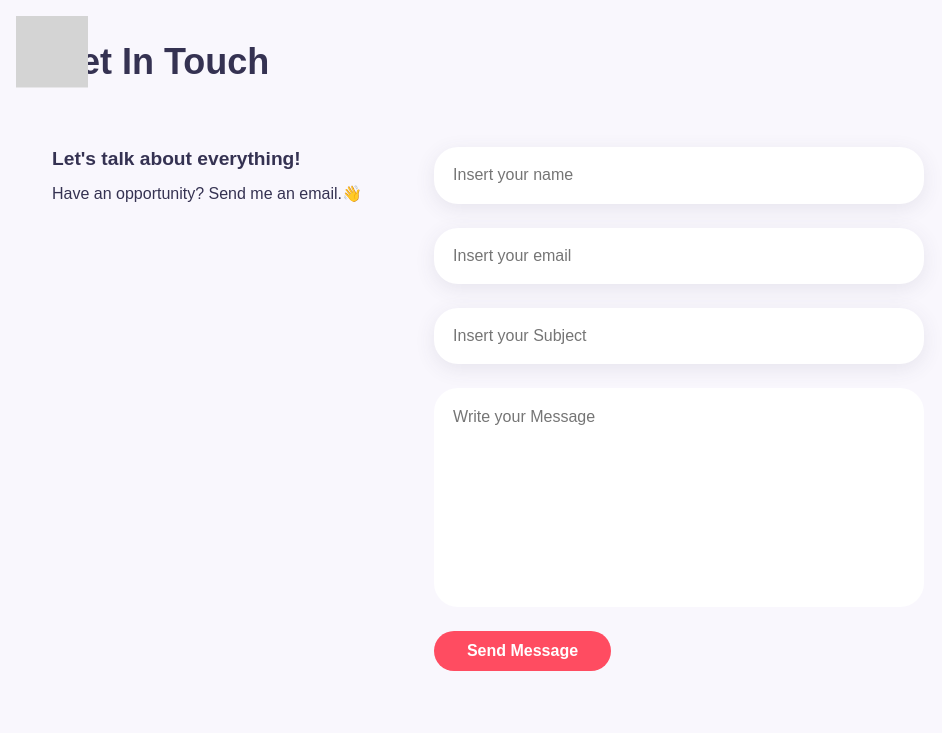
Test case: GetInTouchSection › should display an error message if the field 'name' doesn't pass the yup validations
The width and height of the screenshot is (942, 733).
Type "a" into the field with placeholder "Insert your name" at (679, 175), box [434,147,924,204]
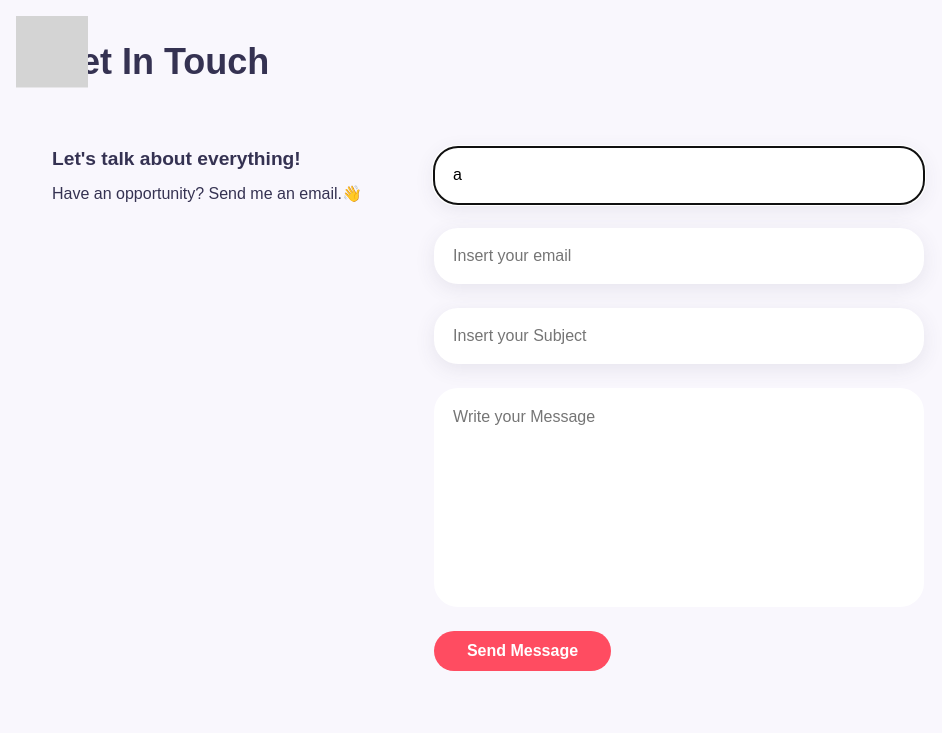
Type "test@rn9.com" into the field with placeholder "Insert your email" at (679, 256), box [434,228,924,284]
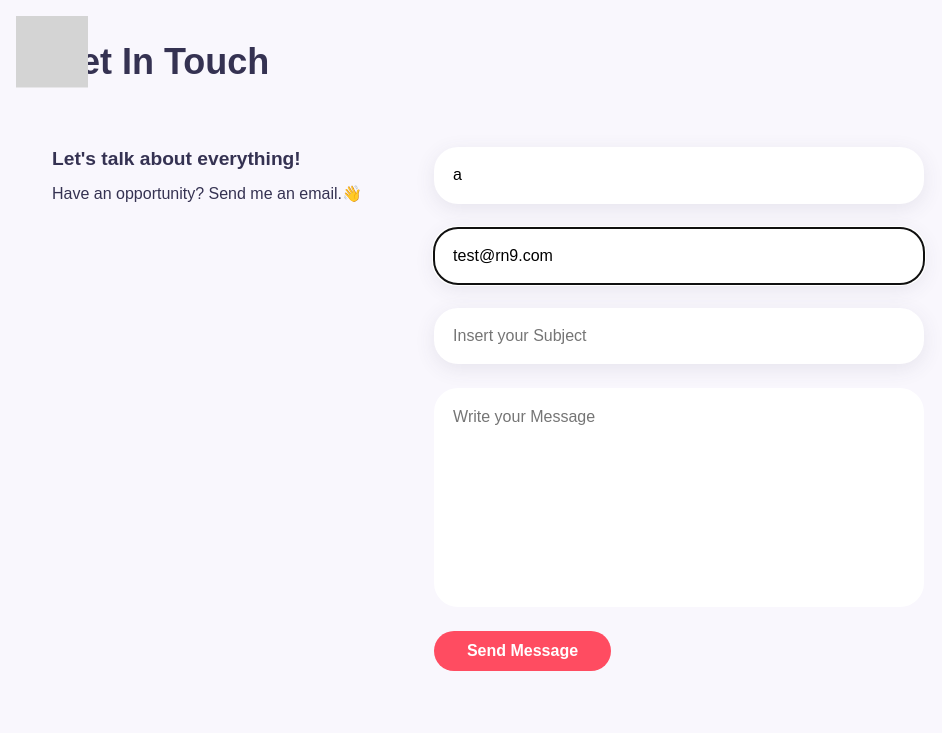
Type "test subject" into the field with placeholder "Insert your Subject" at (679, 336), box [434,308,924,364]
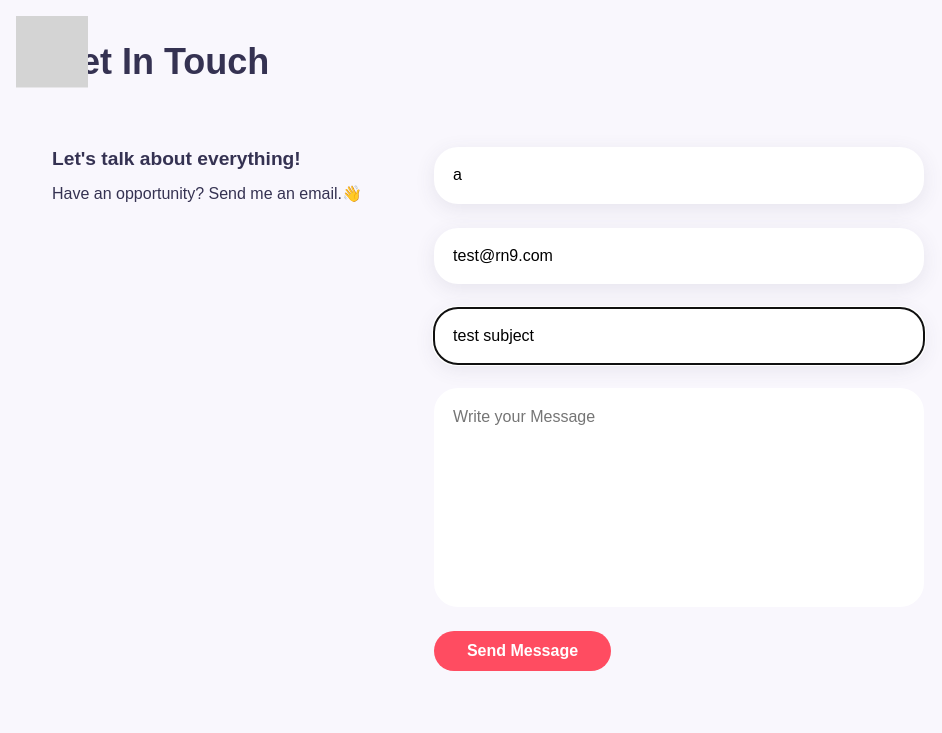
Type "test message" into the text box with placeholder "Write your Message" at (679, 498), box [434,388,924,607]
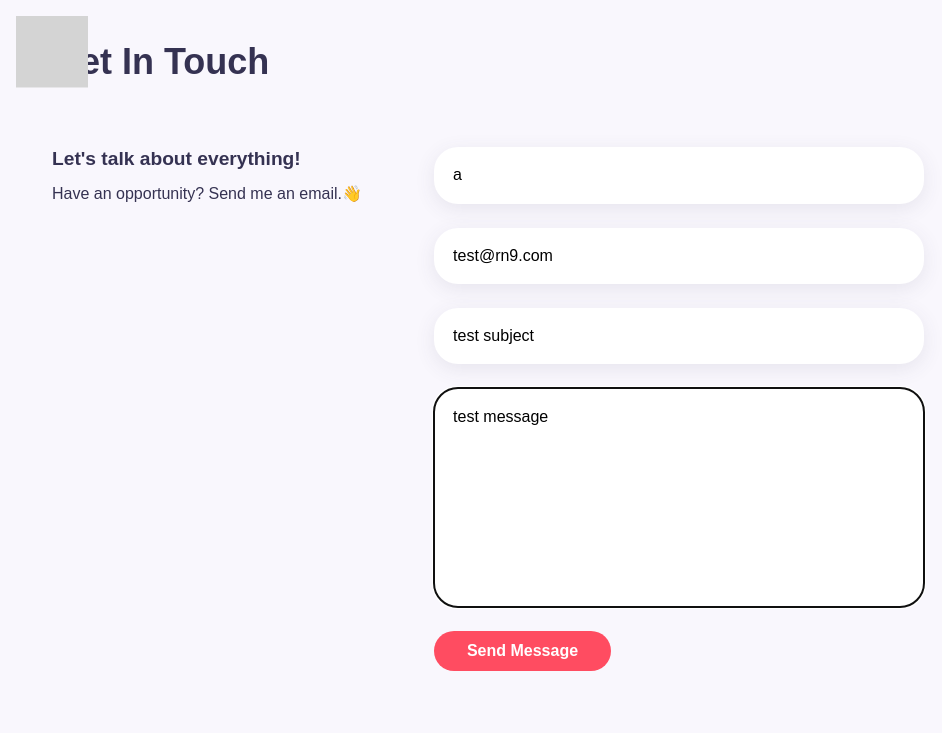
Click the button "Send Message" at (522, 651), box [434,631,611,671]
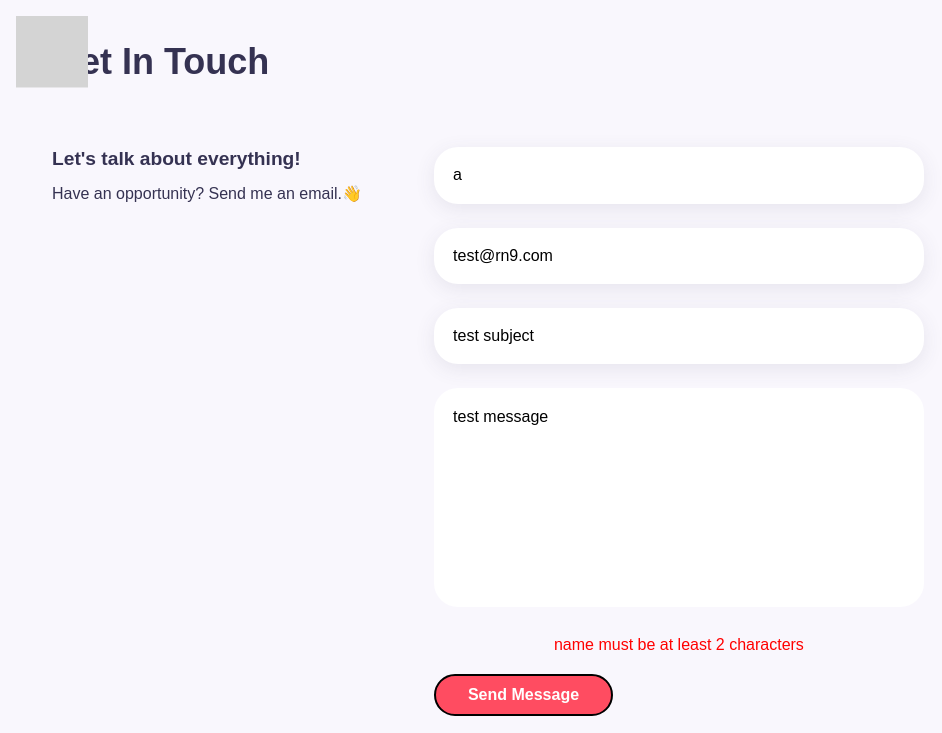
Now the text "name must be at least 2 characters" is shown, box [554,636,804,653]
